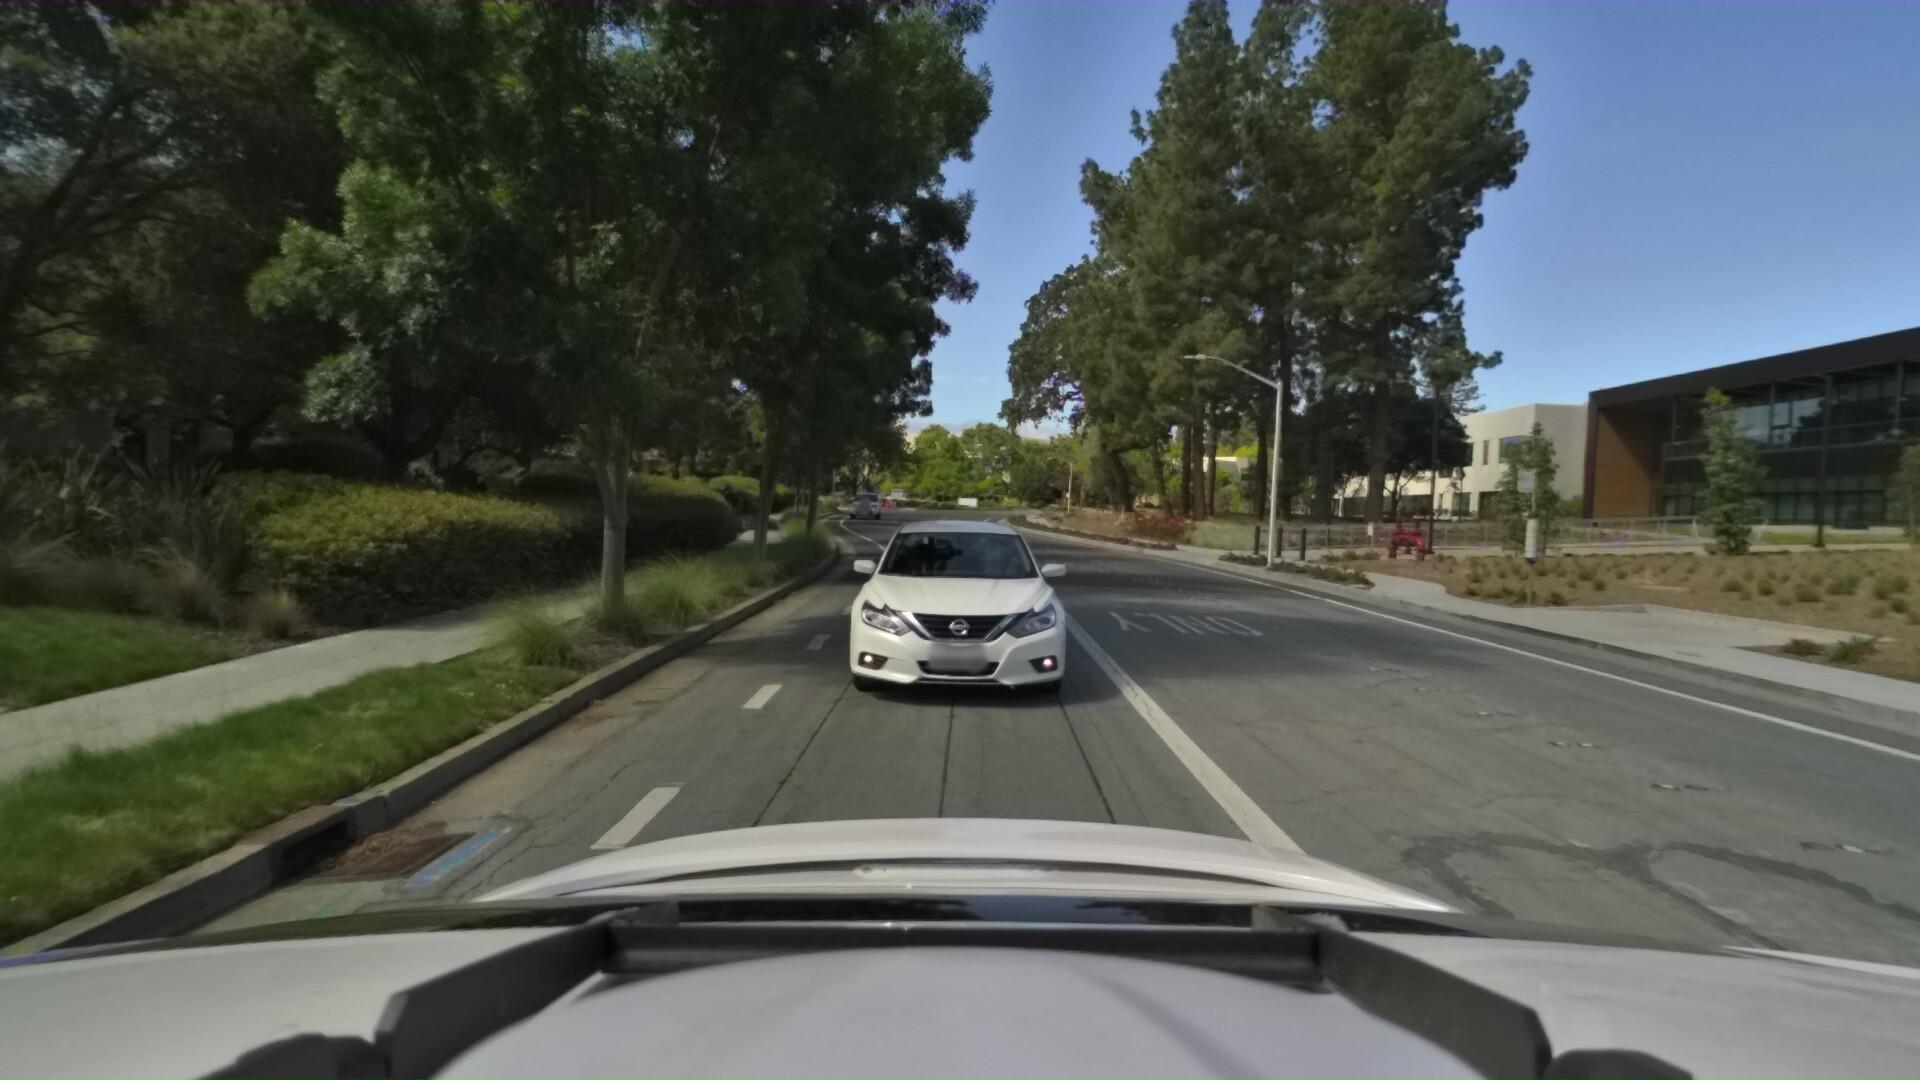car: (836, 485, 1095, 709), (844, 487, 880, 518)
